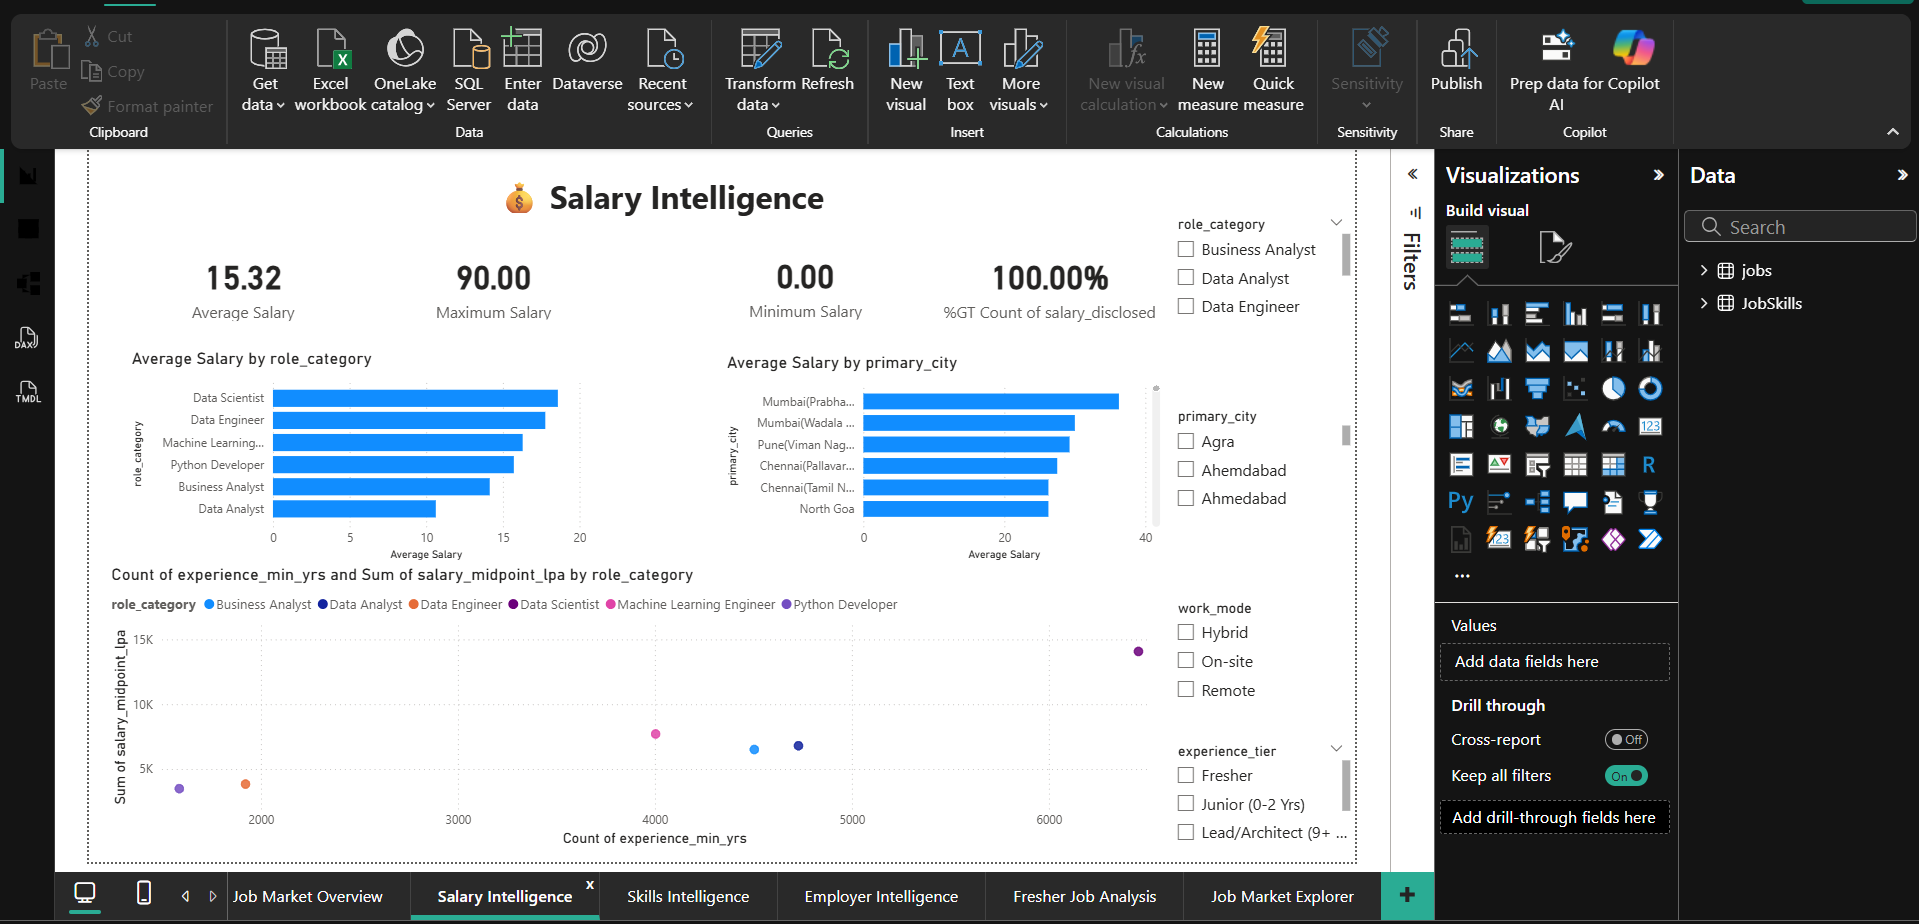

What the dashboard file says about the page in this screenshot:
{"tool":"powerbi","page":{"name":"Salary Intelligence","canvas":[1280,720],"ordinal":1},"visuals":[{"type":"textbox","box":[408.1,20.5,380.8,69.6],"z":0},{"type":"card","fields":{"Values":["jobs.Average Salary"]},"box":[61.4,96.9,188.4,81.9],"z":1000},{"type":"card","fields":{"Values":["jobs.Maximum Salary"]},"box":[297.6,98.3,222.5,79.2],"z":2000},{"type":"card","fields":{"Values":["jobs.Minimum Salary"]},"box":[623.8,96.9,200.7,80.5],"z":3000},{"type":"card","fields":{"Values":["CountNonNull(jobs.salary_disclosed)"]},"box":[854.5,90.1,233.4,95.6],"z":4000},{"type":"clusteredBarChart","fields":{"Category":["jobs.role_category"],"Y":["jobs.Average Salary"]},"box":[38.2,202,469.6,218.4],"z":5000},{"type":"clusteredBarChart","fields":{"Y":["jobs.Average Salary"],"Category":["jobs.primary_city"]},"box":[640.2,206.1,447.7,214.3],"z":6000},{"type":"scatterChart","fields":{"X":["CountNonNull(jobs.experience_min_yrs)"],"Y":["Sum(jobs.salary_midpoint_lpa)"],"Series":["jobs.role_category"]},"box":[17.7,420.4,1070.2,289.4],"z":7000},{"type":"slicer","fields":{"Values":["jobs.role_category"]},"box":[1087.9,62.8,192.5,114.7],"z":8000},{"type":"slicer","fields":{"Values":["jobs.primary_city"]},"box":[1087.9,256.6,192.5,114.7],"z":9000},{"type":"slicer","fields":{"Values":["jobs.work_mode"]},"box":[1087.9,450.5,192.5,114.7],"z":10000},{"type":"slicer","fields":{"Values":["jobs.experience_tier"]},"box":[1087.9,595.1,192.5,114.7],"z":11000}]}

Visuals, with their boxes on the page's 1280x720 design canvas (x1, y1, x2, y2). These are canvas units, not pixel positions in the 1919x924 screenshot, which may show the page scaled, cropped or inside an application window:
textbox: x1=408 y1=20 x2=789 y2=90
card - jobs.Average Salary: x1=61 y1=97 x2=250 y2=179
card - jobs.Maximum Salary: x1=298 y1=98 x2=520 y2=178
card - jobs.Minimum Salary: x1=624 y1=97 x2=824 y2=177
card - CountNonNull(jobs.salary_disclosed): x1=854 y1=90 x2=1088 y2=186
clusteredBarChart - jobs.role_category x jobs.Average Salary: x1=38 y1=202 x2=508 y2=420
clusteredBarChart - jobs.Average Salary x jobs.primary_city: x1=640 y1=206 x2=1088 y2=420
scatterChart - CountNonNull(jobs.experience_min_yrs) x Sum(jobs.salary_midpoint_lpa): x1=18 y1=420 x2=1088 y2=710
slicer - jobs.role_category: x1=1088 y1=63 x2=1280 y2=178
slicer - jobs.primary_city: x1=1088 y1=257 x2=1280 y2=371
slicer - jobs.work_mode: x1=1088 y1=450 x2=1280 y2=565
slicer - jobs.experience_tier: x1=1088 y1=595 x2=1280 y2=710
